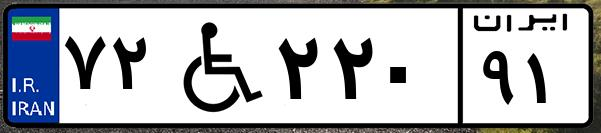0: (385, 28, 445, 110)
1: (525, 38, 570, 115)
2: (270, 28, 330, 110), (330, 28, 385, 110), (110, 28, 158, 98)
7: (57, 26, 110, 100)
9: (475, 38, 525, 113)
ژ (معلولین و جانبازان): (158, 12, 270, 120)
